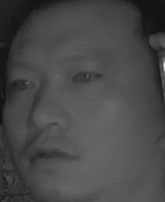eye: (70, 63, 104, 88), (7, 72, 37, 95)
mouth: (20, 139, 78, 172)
